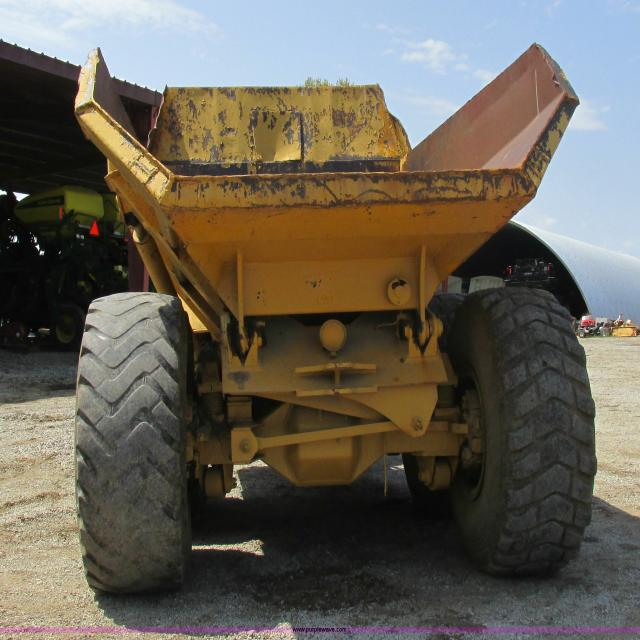dump_truck: (52, 25, 600, 598)
